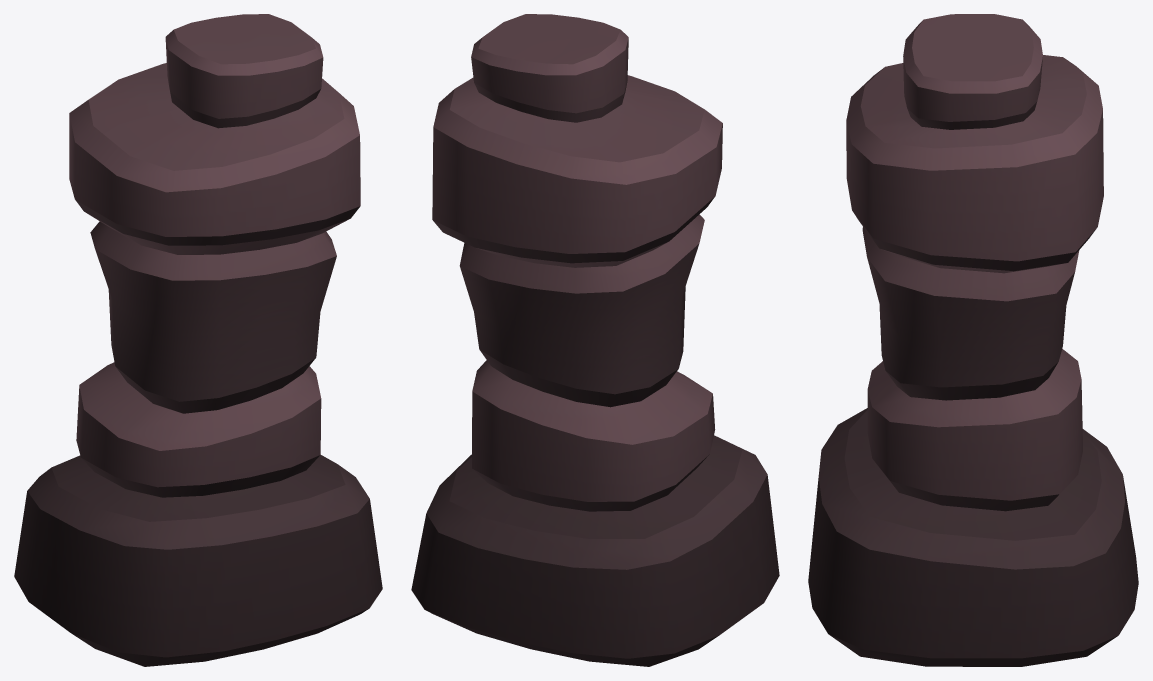
File: rock_big_B_dark_3.glb
3 views of the same model, side by side, from view 1: azimuth 30°, elevation 25°; view 2: azimuth 150°, elevation 25°; view 3: azimuth 270°, elevation 25° (orthographic). The views are drawn at different scales.
Visible parts, largest first — view 1: rock_big_B_dark_3; view 2: rock_big_B_dark_3; view 3: rock_big_B_dark_3.
Boxes of the visible parts, bbox=[...] form: rock_big_B_dark_3: bbox=[14, 14, 382, 666]; rock_big_B_dark_3: bbox=[411, 14, 779, 666]; rock_big_B_dark_3: bbox=[808, 14, 1138, 666].
Size of the model in its own units: 4.3 by 7.74 by 3.97.
Materials: 1 (1 with a texture image).
